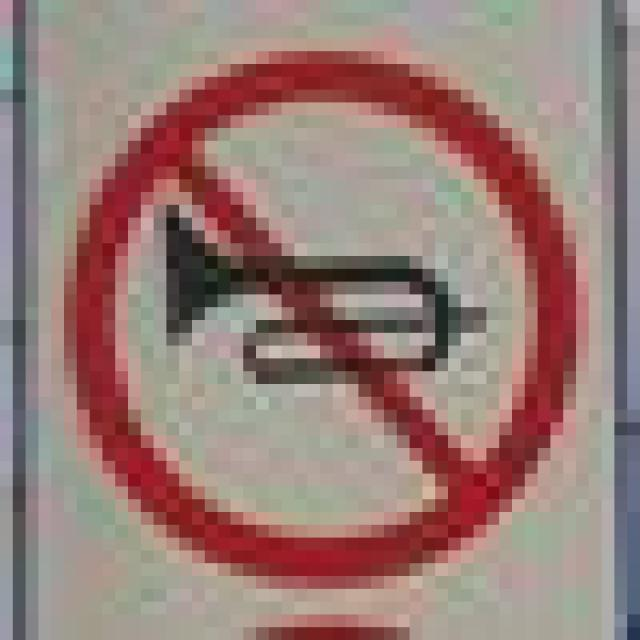horn prohibited: (68, 43, 585, 586)
